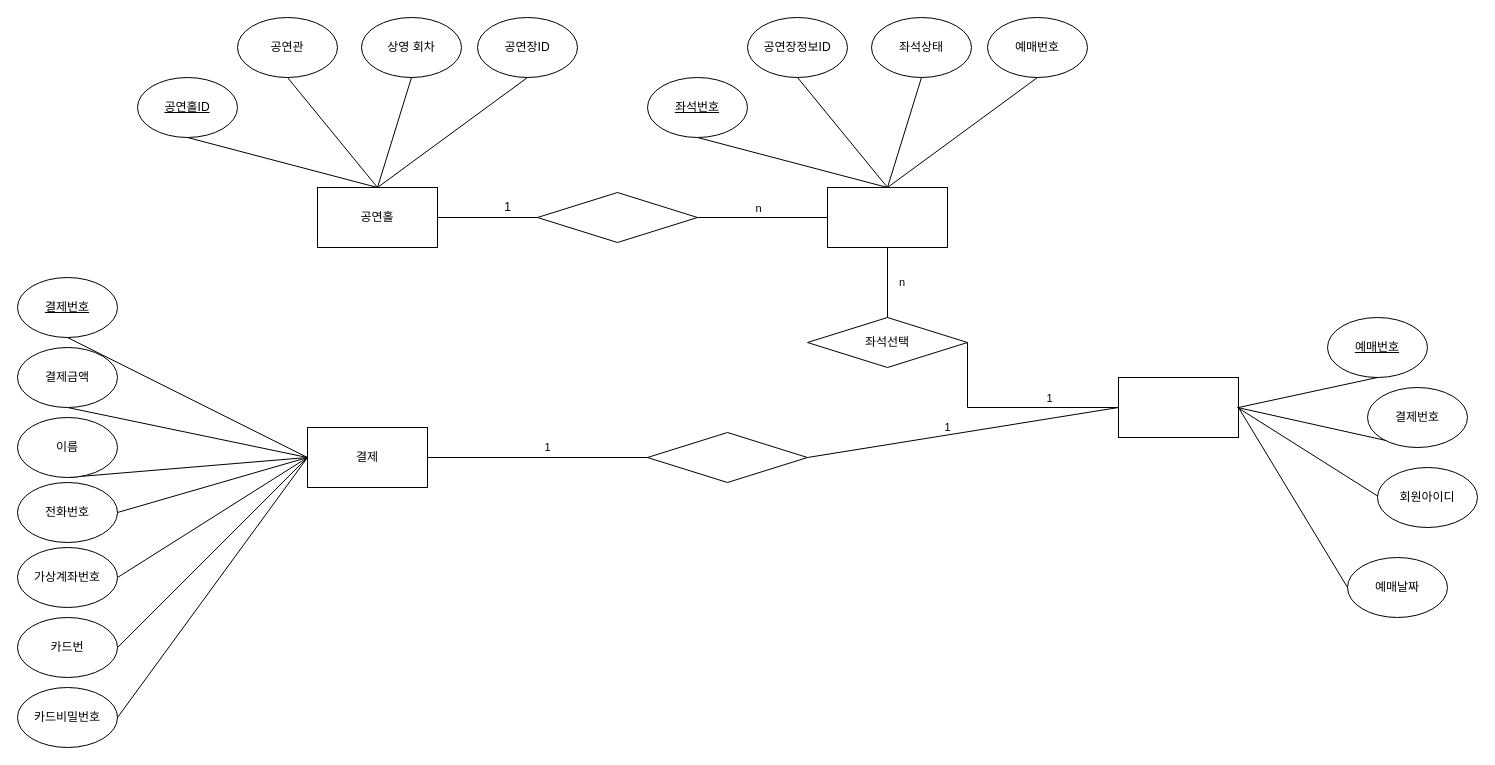
Some shapes in this 1495 by 765 pixel diagram are drawn without their labels. Each missing label, with the centre of its shape:
"구매" goes at (x=727, y=457).
"상영 시간" goes at (x=617, y=217).
"예매" goes at (x=1178, y=407).
"좌석" goes at (x=887, y=217).
